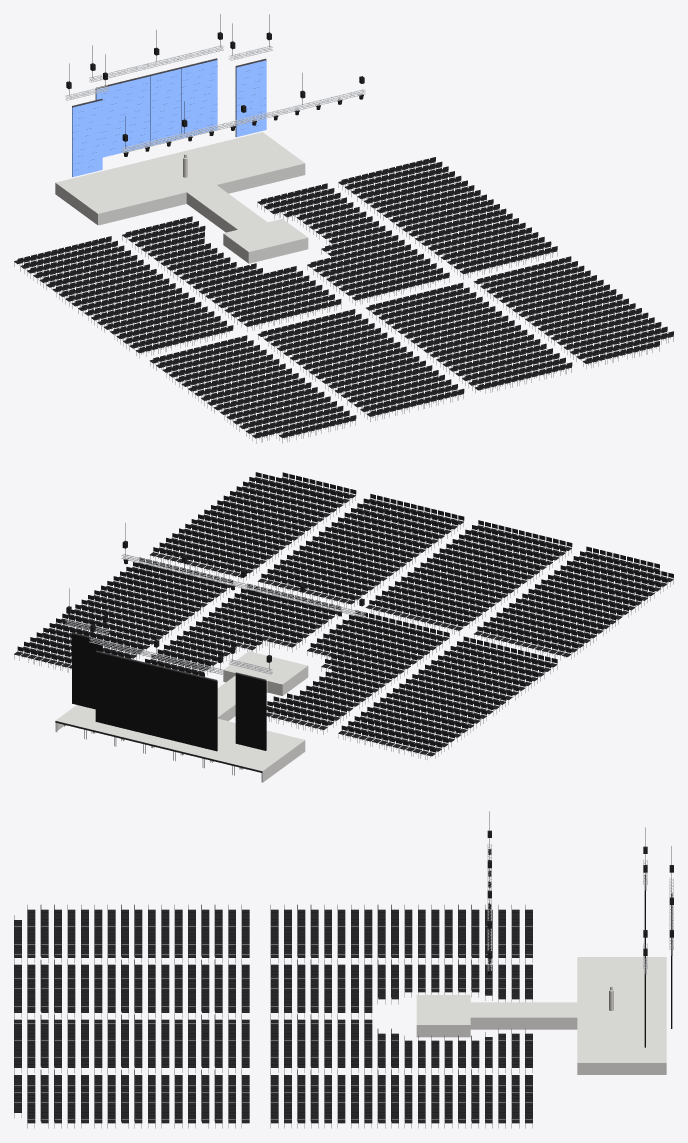
File: product-launch.glb
3 renders of one model, top to bottom at view 1: azimuth 30°, elevation 25°; view 2: azimuth 150°, elevation 25°; view 3: azimuth 270°, elevation 25°, orthographic. The views are drawn at different scales.
Parts seen in each view (by area): view 1: FASCIA.MAIN.FRONT, FASCIA.MAIN.FRONT.1, FASCIA.BSTAGE.FRONT; view 2: FASCIA.MAIN.LEFT.2; view 3: FASCIA.RUNWAY.RIGHT.1, FASCIA.MAIN.RIGHT.3, FASCIA.BSTAGE.RIGHT.4.
Boxes of the visible parts, x1=… form: FASCIA.MAIN.FRONT: x1=98, y1=192, x2=186, y2=225; FASCIA.MAIN.FRONT.1: x1=217, y1=163, x2=305, y2=193; FASCIA.BSTAGE.FRONT: x1=249, y1=237, x2=308, y2=263; FASCIA.MAIN.LEFT.2: x1=262, y1=740, x2=305, y2=782; FASCIA.RUNWAY.RIGHT.1: x1=470, y1=1017, x2=577, y2=1029; FASCIA.MAIN.RIGHT.3: x1=577, y1=1062, x2=666, y2=1074; FASCIA.BSTAGE.RIGHT.4: x1=417, y1=1025, x2=470, y2=1037.
Size of the model in its own units: 34.47 by 11.34 by 45.11.
